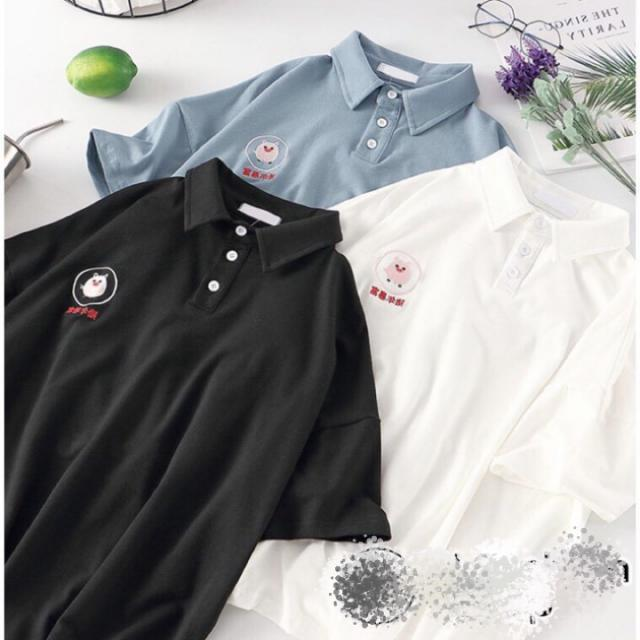Shirt: (5, 162, 394, 640), (334, 149, 639, 639), (90, 28, 520, 190)
